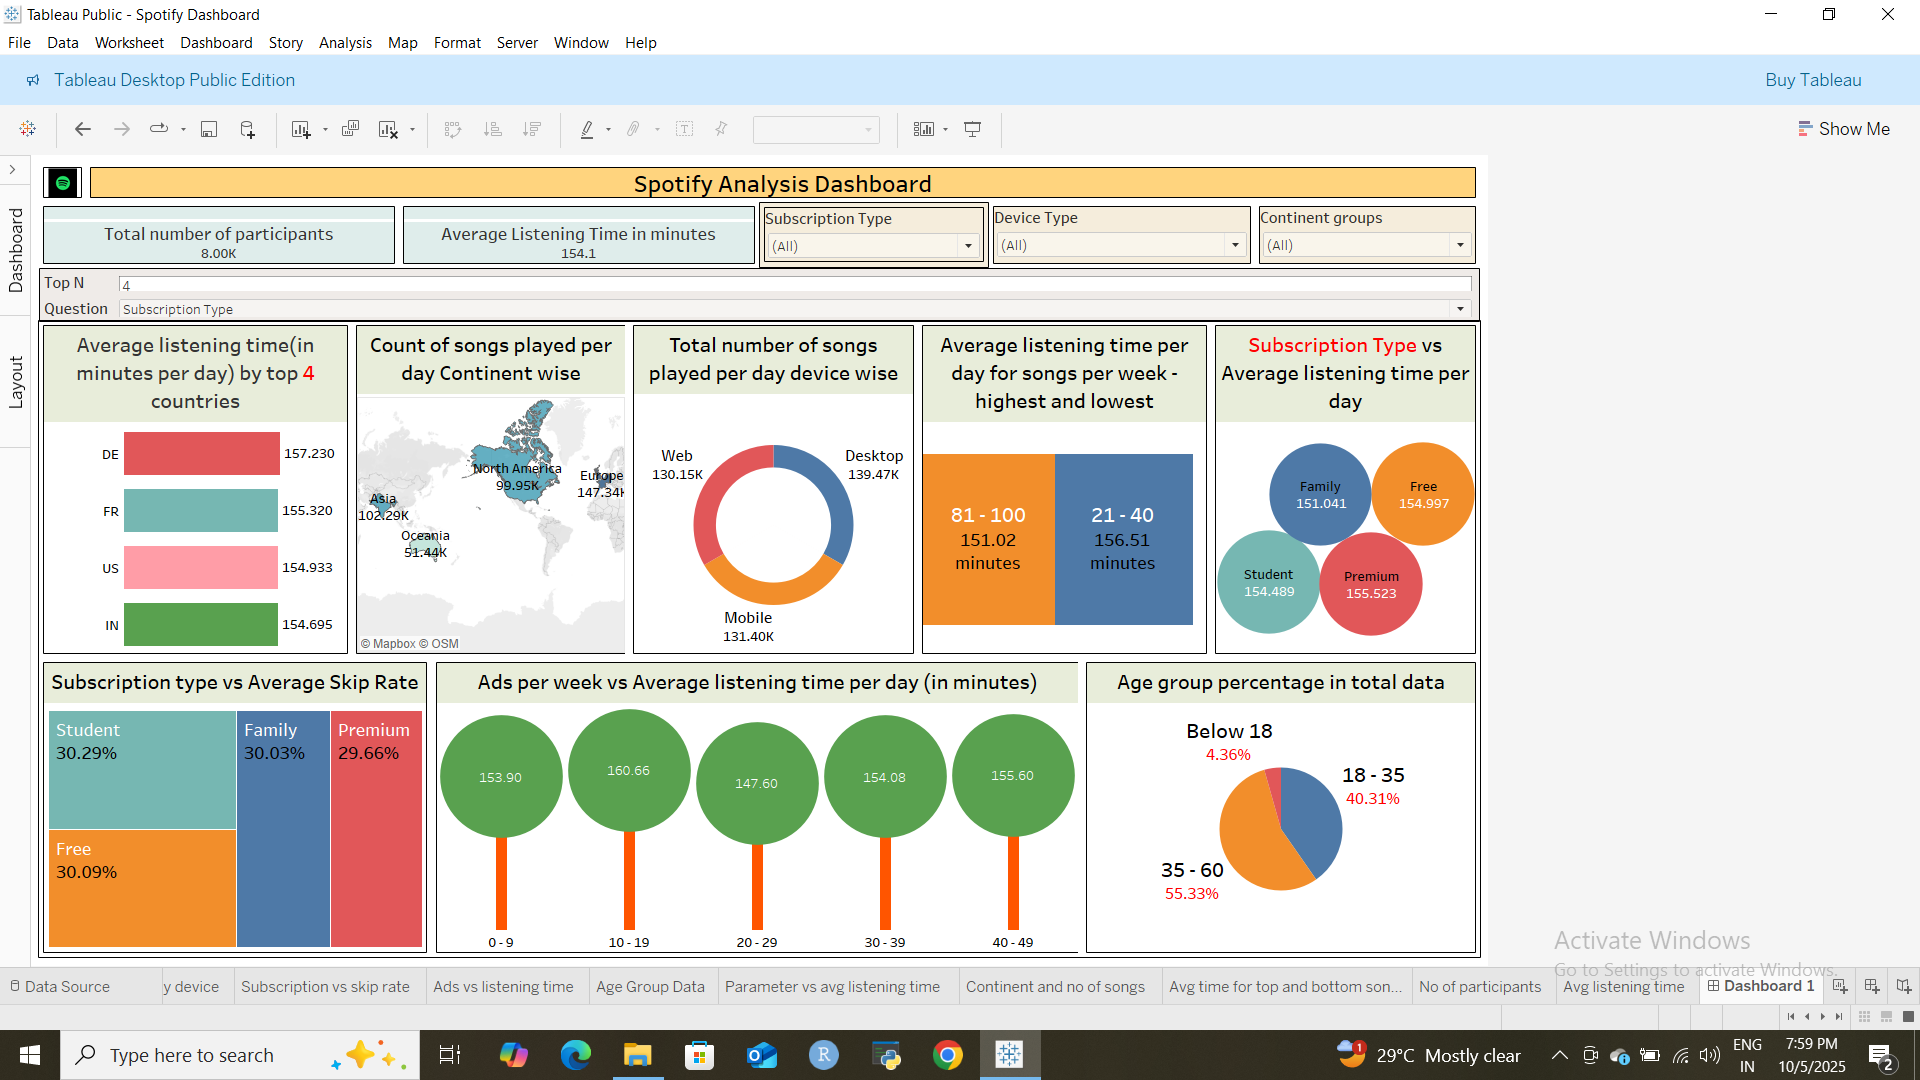

The dashboard page shown, as its layout file describes it:
{"tool":"tableau","page":{"name":"Spotify Dashboard","canvas":[1000,1000],"units":"permille","ordinal":0},"visuals":[{"type":"image","param":"Image/9f5edc36-eb4d-414a-8447-10514f2bc224-cover.png","box":[4.2,9.9,32.5,48.1]},{"type":"text","box":[36.8,9.9,959,48.1]},{"type":"worksheet","title":"No of participants","mark":"Automatic","box":[4.2,57.9,247.8,81.4]},{"type":"worksheet","title":"Avg listening time","mark":"Automatic","box":[252.1,57.9,247.9,81.4]},{"type":"filter","title":"Songs played by device","param":"[federated.1gn5vaq1ly7l3y17p7z3v0p7hh3u].[none:device_type:nk]","box":[657.9,57.9,183.1,81.4]},{"type":"filter","title":"Continent and no of songs","param":"[federated.1gn5vaq1ly7l3y17p7z3v0p7hh3u].[Conuntry grouped to Continents]","box":[841,57.9,154.8,81.4]},{"type":"filter","title":"Subscription vs skip rate","param":"[federated.1gn5vaq1ly7l3y17p7z3v0p7hh3u].[none:subscription_type:nk]","box":[500.5,59.1,156.9,77.7]},{"type":"parameter","param":"[Parameters].[Parameter 1]","box":[4.8,140.6,990.5,32.1]},{"type":"parameter","param":"[Parameters].[Parameter 2]","box":[4.8,172.6,990.5,32.1]},{"type":"worksheet","title":"Avg list time parameter","mark":"Automatic","rows":["country"],"cols":["listening_time"],"box":[4.8,203.5,214.8,416.8]},{"type":"worksheet","title":"Continent and no of songs","mark":"Automatic","box":[219.7,203.5,190.8,416.8]},{"type":"worksheet","title":"Songs played by device","mark":"Pie","rows":["Calculation_955326126356881410","Calculation_955326126356897796"],"box":[410.5,203.5,198.6,416.8]},{"type":"worksheet","title":"Avg time for top and bottom songs","mark":"Automatic","cols":["listening_time"],"box":[609.1,203.5,201.3,416.8]},{"type":"worksheet","title":"Parameter vs avg listening time","mark":"Circle","box":[810.4,203.5,184.8,416.8]},{"type":"worksheet","title":"Subscription vs skip rate","mark":"Automatic","box":[4.8,620.2,269.8,369.9]},{"type":"worksheet","title":"Ads vs listening time","mark":"Automatic","rows":["listening_time","listening_time"],"cols":["Calculation_955326126362046473"],"box":[274.6,620.2,447.2,369.9]},{"type":"worksheet","title":"Age Group Data","mark":"Pie","box":[721.8,620.2,273.4,369.9]}]}

Visuals, with their boxes on the dashboard's canvas, which has no fixed pixel size, in thousandths of its width and height (x1, y1, x2, y2). These are canvas units, not pixel positions in the 1920x1080 screenshot, which may show the page scaled, cropped or inside an application window:
image: left=4, top=10, right=37, bottom=58
text: left=37, top=10, right=996, bottom=58
"No of participants" worksheet: left=4, top=58, right=252, bottom=139
"Avg listening time" worksheet: left=252, top=58, right=500, bottom=139
"Songs played by device" filter: left=658, top=58, right=841, bottom=139
"Continent and no of songs" filter: left=841, top=58, right=996, bottom=139
"Subscription vs skip rate" filter: left=500, top=59, right=657, bottom=137
parameter: left=5, top=141, right=995, bottom=173
parameter: left=5, top=173, right=995, bottom=205
"Avg list time parameter" worksheet: left=5, top=204, right=220, bottom=620
"Continent and no of songs" worksheet: left=220, top=204, right=410, bottom=620
"Songs played by device" worksheet (Pie marks): left=410, top=204, right=609, bottom=620
"Avg time for top and bottom songs" worksheet: left=609, top=204, right=810, bottom=620
"Parameter vs avg listening time" worksheet (Circle marks): left=810, top=204, right=995, bottom=620
"Subscription vs skip rate" worksheet: left=5, top=620, right=275, bottom=990
"Ads vs listening time" worksheet: left=275, top=620, right=722, bottom=990
"Age Group Data" worksheet (Pie marks): left=722, top=620, right=995, bottom=990
